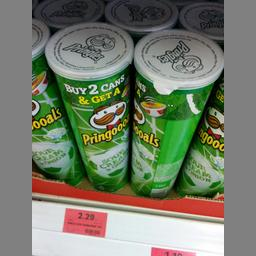chips: (130, 22, 222, 196), (42, 20, 132, 190)
